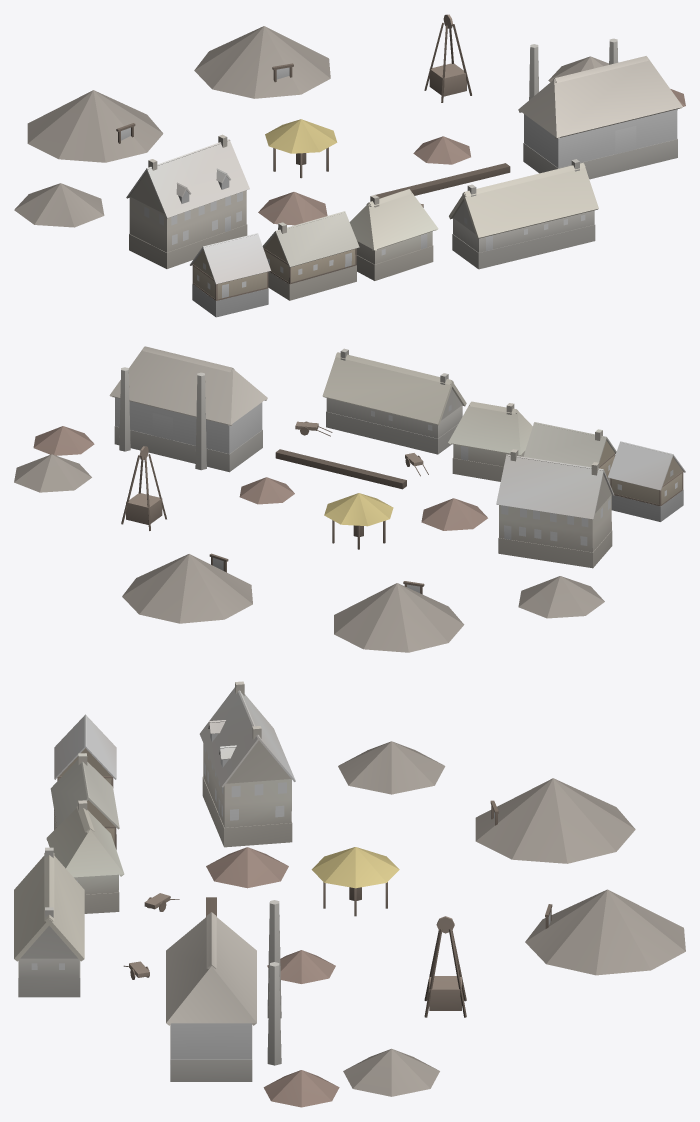
Rendered from mine_3.glb.
3 renders of one model, top to bottom at view 1: azimuth 30°, elevation 25°; view 2: azimuth 150°, elevation 25°; view 3: azimuth 270°, elevation 25°, orthographic. The views are drawn at different scales.
Parts seen in each view (by area): view 1: mine_3; view 2: mine_3; view 3: mine_3.
Part boxes in pixels (left/top/right/bottom): mine_3: left=14, top=14, right=685, bottom=317; mine_3: left=14, top=346, right=685, bottom=652; mine_3: left=14, top=681, right=685, bottom=1107.
Size of the model in its own units: 93.86 by 15 by 74.6.
